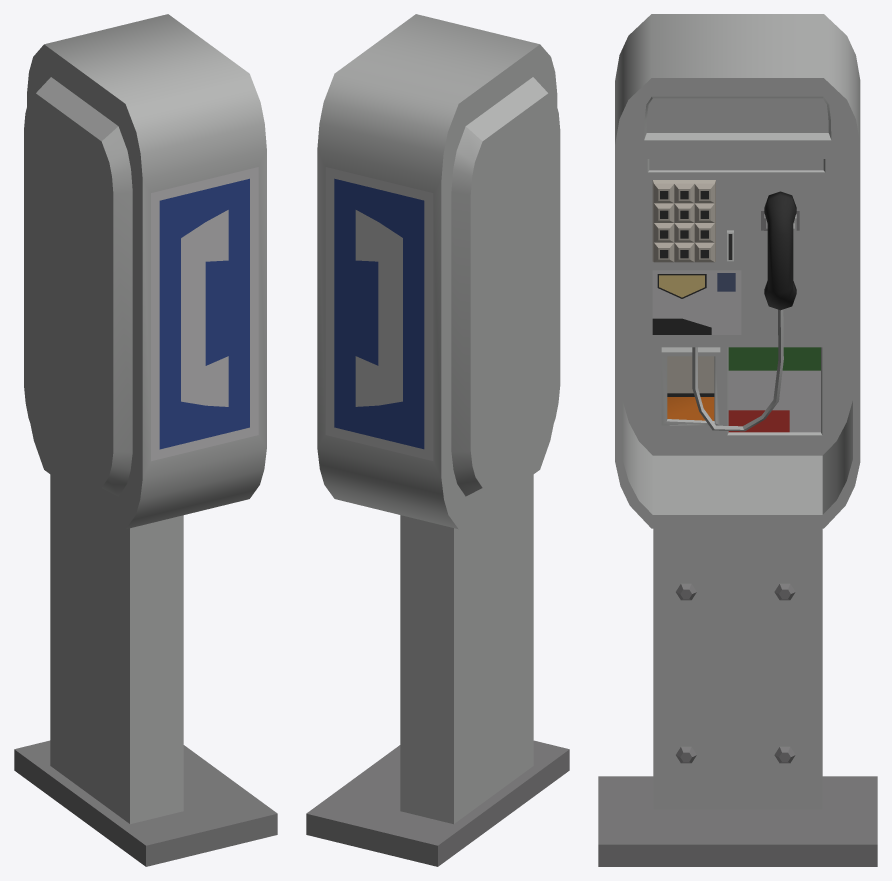
Rendered from SM_Prop_PublicPhone_01.obj.
The picture shows the model from 3 angles, left to right: view 1: azimuth 30°, elevation 25°; view 2: azimuth 150°, elevation 25°; view 3: azimuth 270°, elevation 25°; orthographic projection. The views are drawn at different scales.
Visible parts, largest first — view 1: SM_Prop_PublicPhone_01_M_BaseColorPalette; view 2: SM_Prop_PublicPhone_01_M_BaseColorPalette; view 3: SM_Prop_PublicPhone_01_M_BaseColorPalette.
Boxes of the visible parts, x1,y1,x2,y2 form: SM_Prop_PublicPhone_01_M_BaseColorPalette: (14, 14, 277, 866); SM_Prop_PublicPhone_01_M_BaseColorPalette: (306, 14, 569, 866); SM_Prop_PublicPhone_01_M_BaseColorPalette: (598, 14, 877, 866).
Size of the model in its own units: 0.4244 by 2.11 by 0.6767.
1 material, 1 textured.
